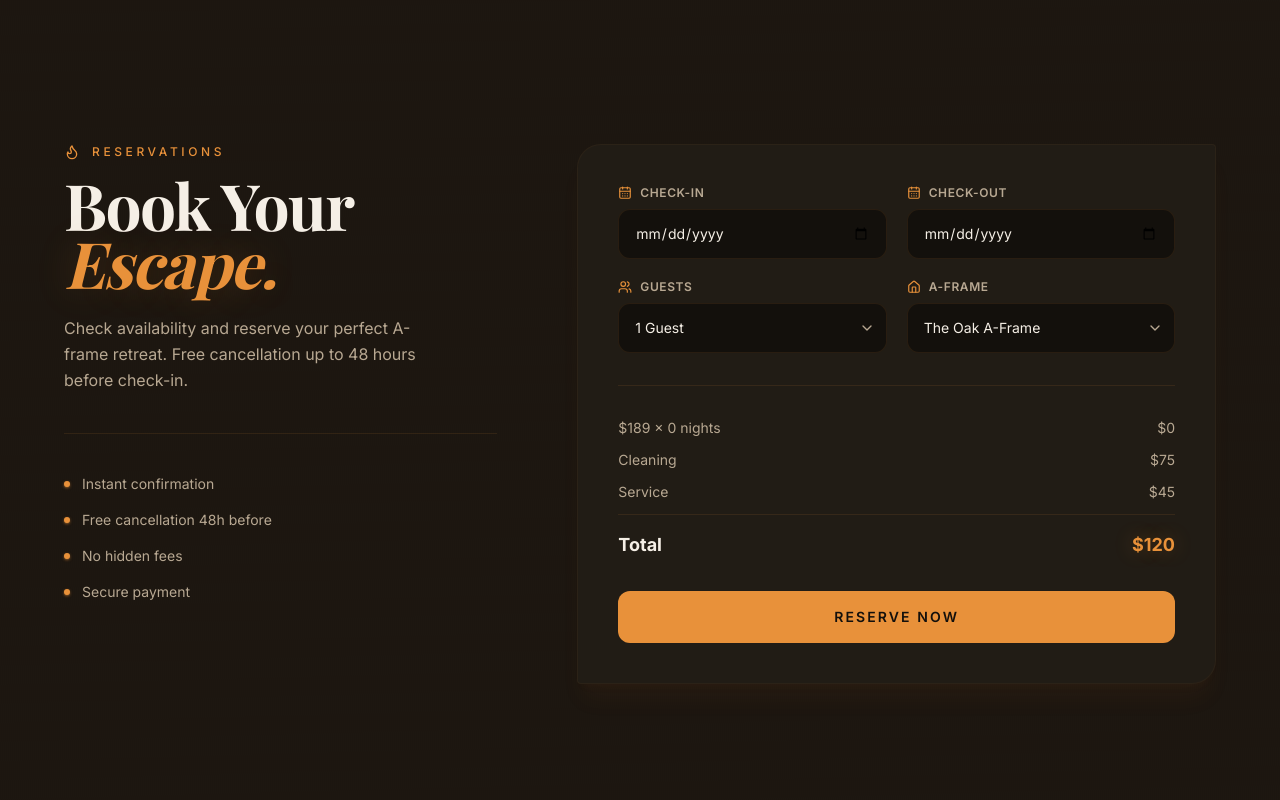
Test: Booking Form Interaction › closes confirmation modal when close button is clicked
Type "2025-03-15" into the date field labelled "Check-in" at (752, 234), box [618, 209, 887, 259]
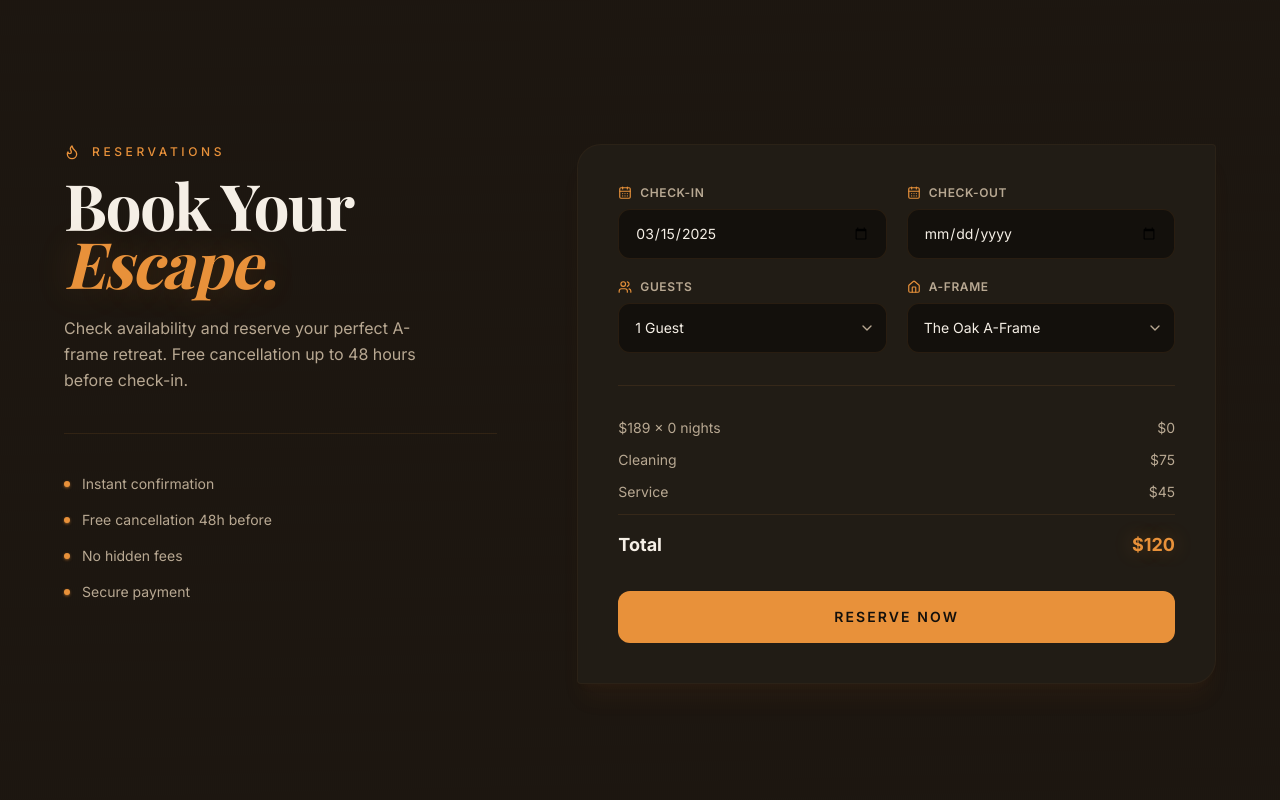
Type "2025-03-18" into the date field labelled "Check-out" at (1041, 234), box [907, 209, 1175, 259]
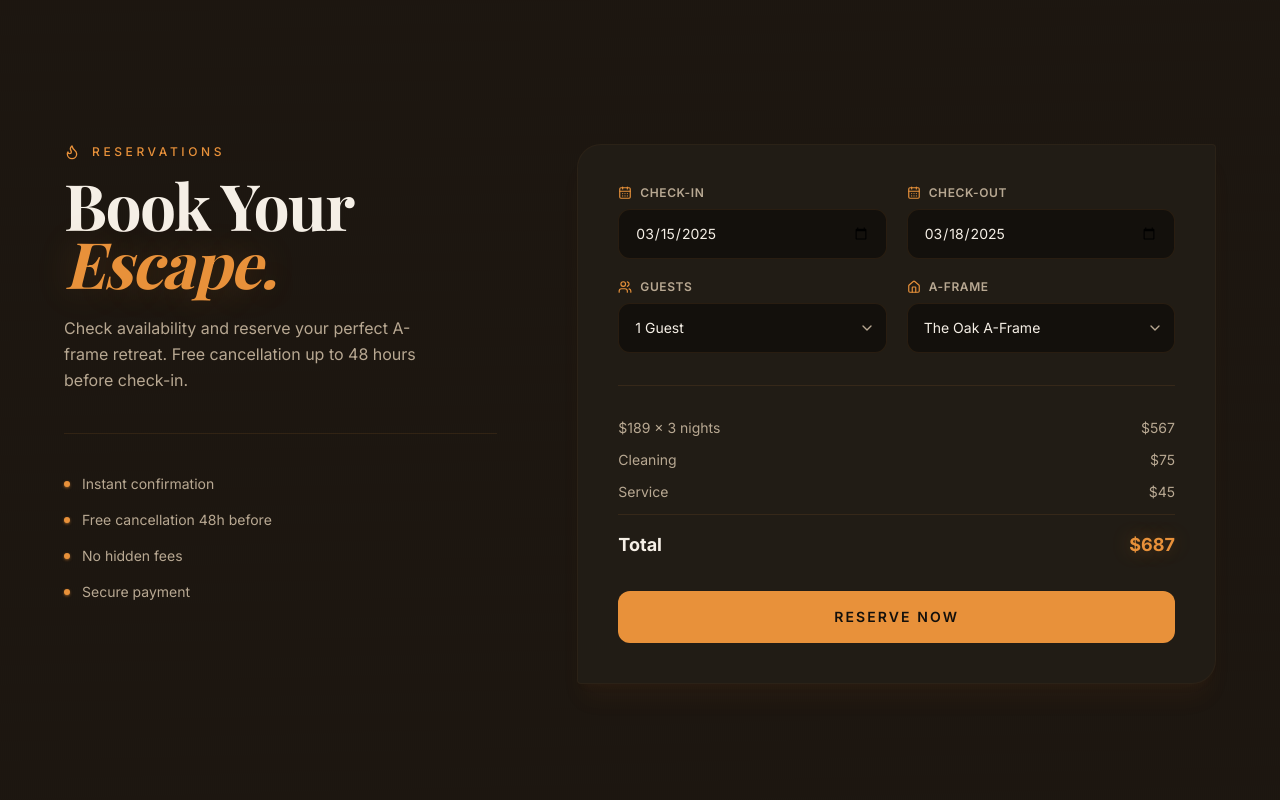
Click the button "Reserve Now" at (897, 617), box [618, 591, 1175, 643]
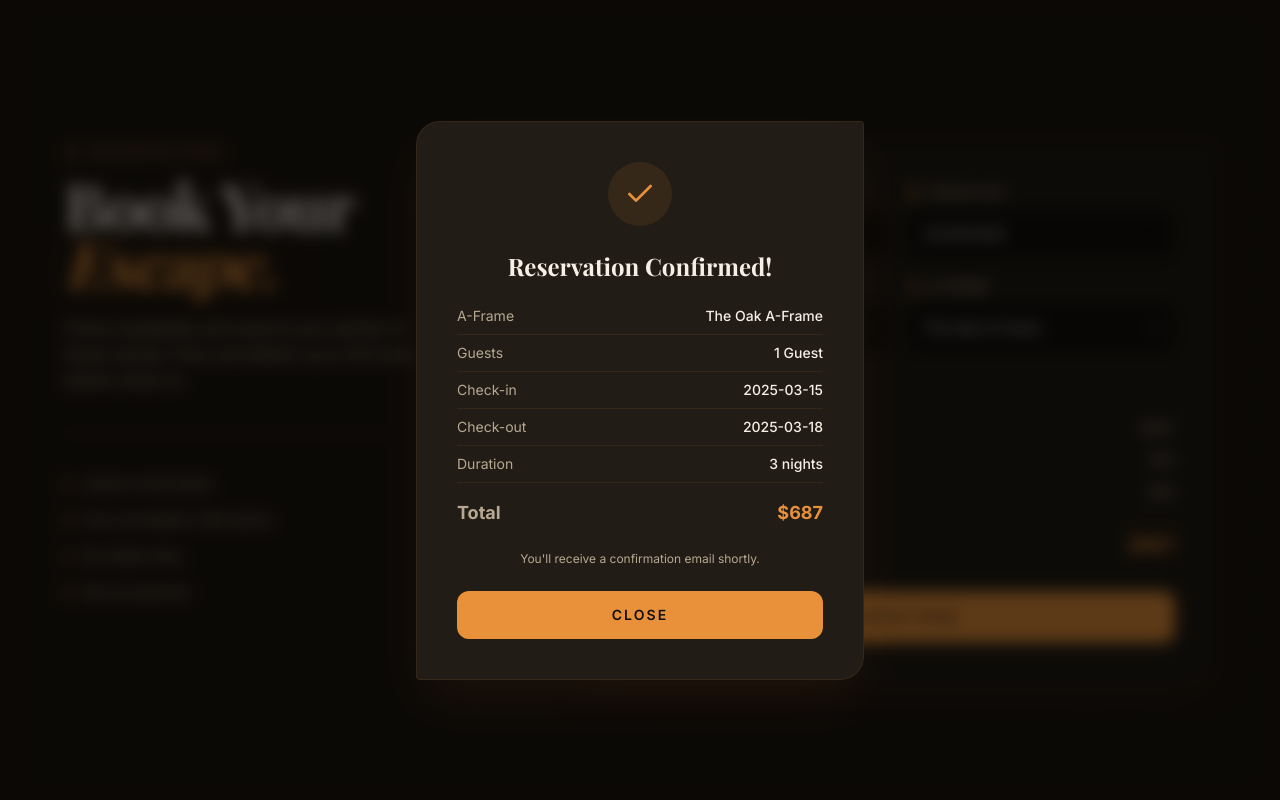
Click the button "Close" at (640, 614), box [457, 590, 823, 638]
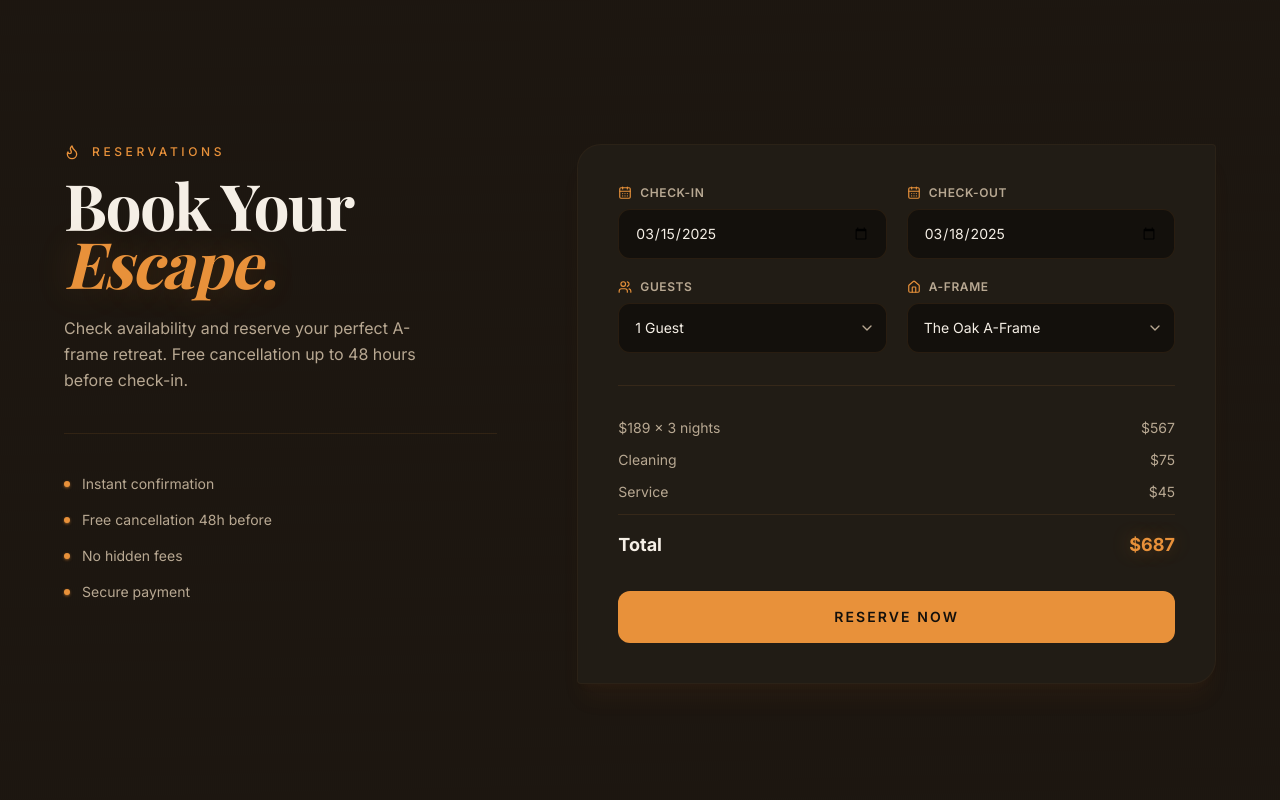
Check: the heading "Reservation Confirmed!" is gone
